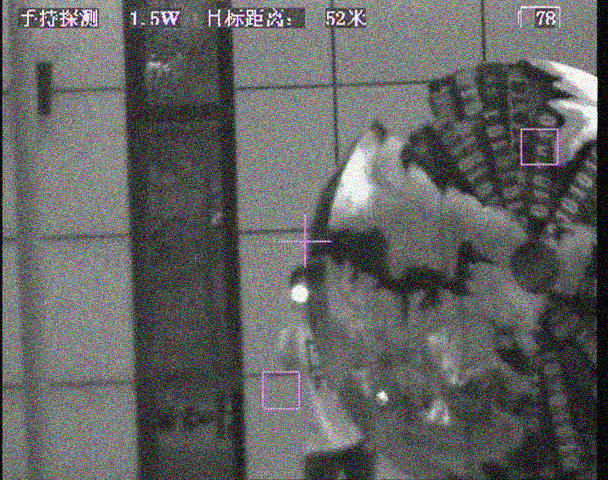my: (290, 284, 310, 304)
